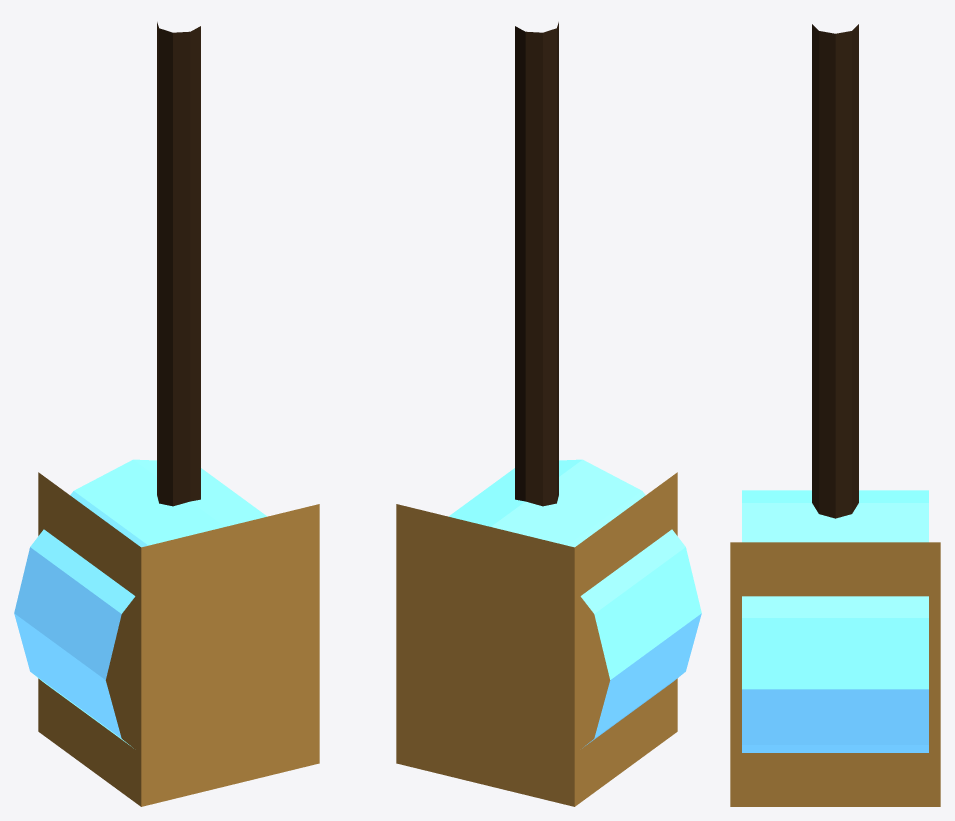
The model's file is brewmaster.glb.
3 views of the same model, side by side, from view 1: azimuth 30°, elevation 25°; view 2: azimuth 150°, elevation 25°; view 3: azimuth 270°, elevation 25° (orthographic). The views are drawn at different scales.
Visible parts, largest first — view 1: brewmaster-head, brewmaster-keg-band, brewmaster-handle; view 2: brewmaster-head, brewmaster-keg-band, brewmaster-handle; view 3: brewmaster-keg-band, brewmaster-head, brewmaster-handle.
Boxes of the visible parts, x1,y1,x2,y2 form: brewmaster-head: (38,472,319,806); brewmaster-keg-band: (14,459,266,748); brewmaster-handle: (157,22,200,506); brewmaster-head: (396,472,677,806); brewmaster-keg-band: (449,459,701,748); brewmaster-handle: (515,22,558,506); brewmaster-keg-band: (742,490,928,752); brewmaster-head: (730,542,940,806); brewmaster-handle: (812,24,858,518).
Size of the model in its own units: 0.48 by 1.39 by 0.36.
